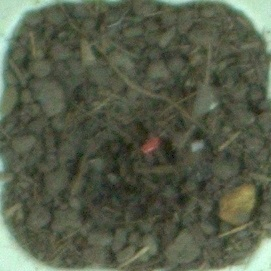chilli seed: (137, 131, 161, 155)
